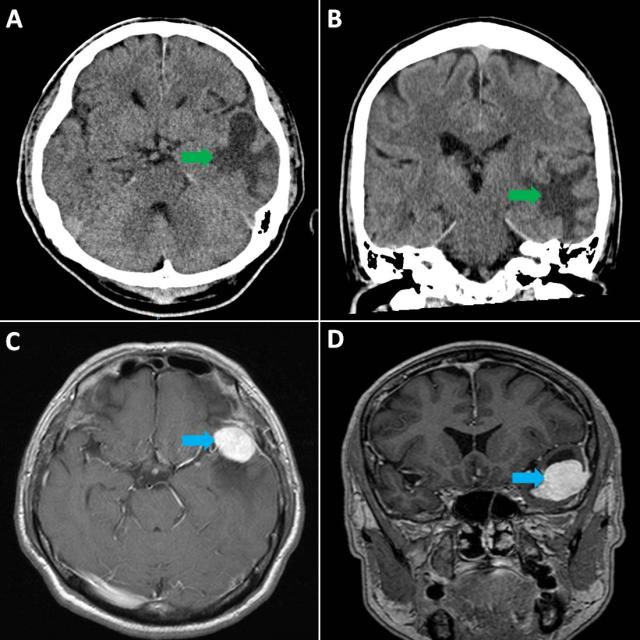Tumor: (211, 111, 268, 179), (526, 166, 591, 220), (534, 458, 590, 500), (214, 425, 258, 463)
